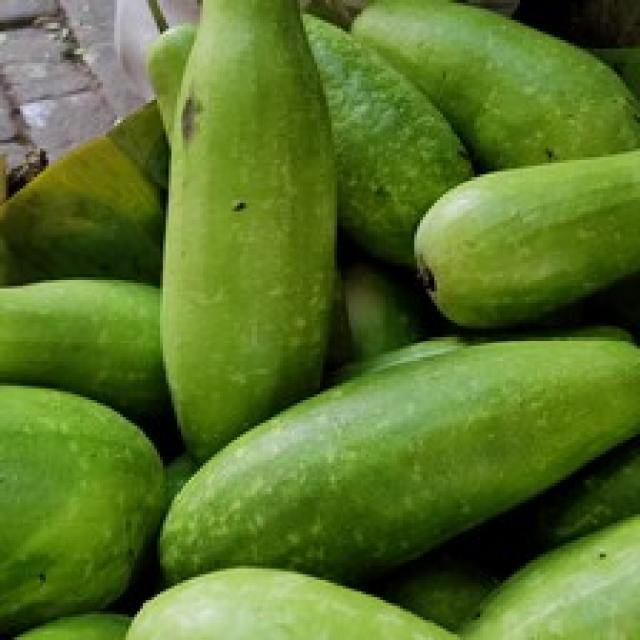organik: (180, 17, 640, 574)
